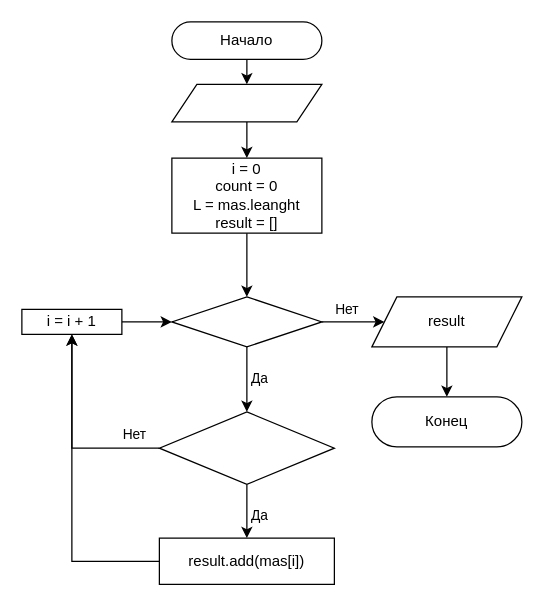
This 544x606 diagram has some shape labels left out. The shapes that lost their labels are listed below. From the top down, each one's box as (x1, y1, x2, y2) in pixels, then its label:
(171, 83, 322, 122): mas [ ]
(171, 296, 322, 347): L > i
(158, 411, 334, 484): mas [ i ].lenght =< 3
